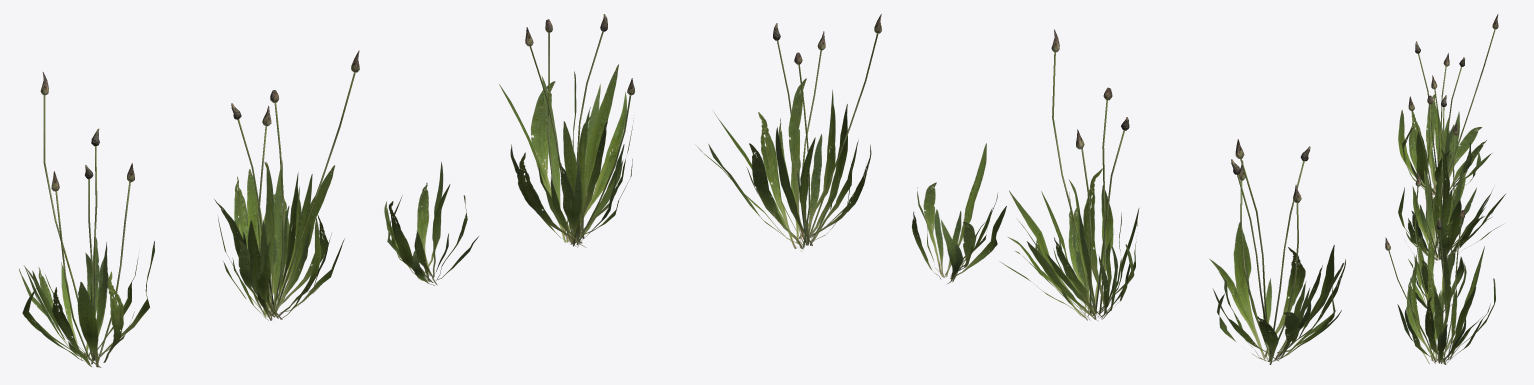
File: ribwort.glb
3 renders of one model, left to right at view 1: azimuth 30°, elevation 25°; view 2: azimuth 150°, elevation 25°; view 3: azimuth 270°, elevation 25°, orthographic. The views are drawn at different scales.
Visible parts, largest first — view 1: ribwort.001_0, ribwort.002_2, ribwort.003_3, ribwort_1, BezierCurve.002_6, BezierCurve.001_5, BezierCurve_4; view 2: ribwort.001_0, ribwort.002_2, ribwort.003_3, ribwort_1, BezierCurve.002_6, BezierCurve.001_5, BezierCurve_4; view 3: ribwort.001_0, ribwort.002_2, ribwort.003_3, ribwort_1, BezierCurve.002_6, BezierCurve.001_5, BezierCurve_4.
Part boxes in pixels (<box>): ribwort.001_0: <box>499,64,633,247</box>; ribwort.002_2: <box>214,160,344,320</box>; ribwort.003_3: <box>19,236,154,367</box>; ribwort_1: <box>384,161,478,285</box>; BezierCurve.002_6: <box>40,72,134,362</box>; BezierCurve.001_5: <box>231,50,359,315</box>; BezierCurve_4: <box>525,14,634,245</box>; ribwort.001_0: <box>697,78,871,251</box>; ribwort.002_2: <box>999,168,1139,320</box>; ribwort.003_3: <box>1209,222,1345,364</box>; ribwort_1: <box>912,143,1006,283</box>; BezierCurve.002_6: <box>1231,139,1310,361</box>; BezierCurve.001_5: <box>1051,29,1129,313</box>; BezierCurve_4: <box>773,14,881,247</box>; ribwort.001_0: <box>1397,242,1495,364</box>; ribwort.002_2: <box>1398,148,1505,262</box>; ribwort.003_3: <box>1398,94,1492,199</box>; ribwort_1: <box>1408,231,1466,312</box>; BezierCurve.002_6: <box>1415,14,1498,197</box>; BezierCurve.001_5: <box>1408,95,1458,258</box>; BezierCurve_4: <box>1385,171,1464,362</box>.
Size of the model in its own units: 3.74 by 1.46 by 0.9419.
Materials: 3 (3 with a texture image).
